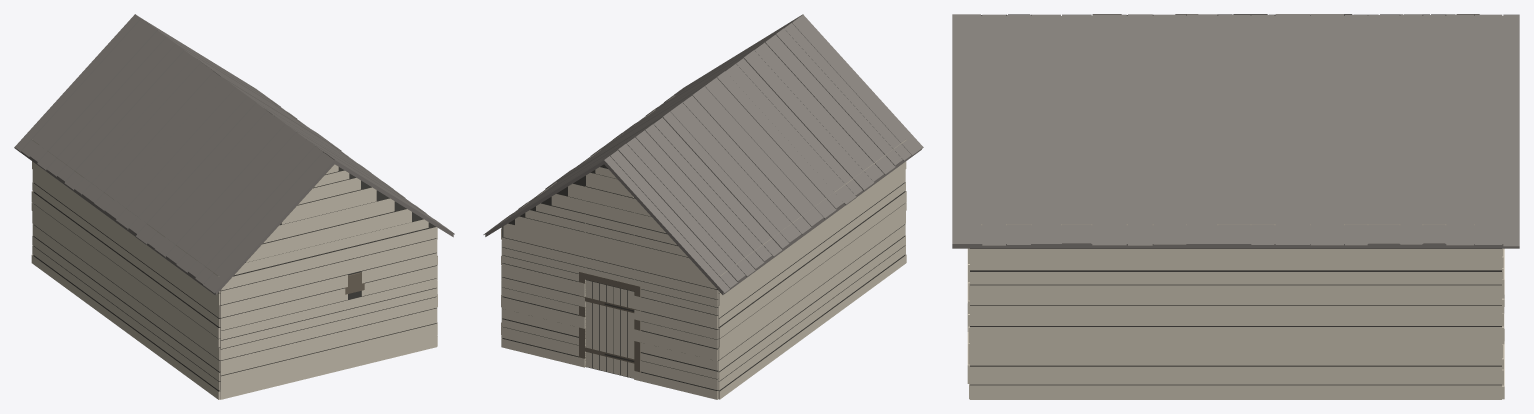
The model's file is recon_1835_blk_west_randolph_des_plaines_w2_01__inferred_1835.glb.
The picture shows the model from 3 angles, left to right: view 1: azimuth 30°, elevation 25°; view 2: azimuth 150°, elevation 25°; view 3: azimuth 270°, elevation 25°; orthographic projection. The views are drawn at different scales.
Visible parts, largest first — view 1: recon_1835_blk_west_randolph_des_plaines_w2_01__inferred_183; view 2: recon_1835_blk_west_randolph_des_plaines_w2_01__inferred_183; view 3: recon_1835_blk_west_randolph_des_plaines_w2_01__inferred_183.
Boxes of the visible parts, x1,y1,x2,y2 form: recon_1835_blk_west_randolph_des_plaines_w2_01__inferred_183: [14, 14, 454, 399]; recon_1835_blk_west_randolph_des_plaines_w2_01__inferred_183: [483, 14, 923, 399]; recon_1835_blk_west_randolph_des_plaines_w2_01__inferred_183: [952, 14, 1519, 399].
Size of the model in its own units: 6.6 by 5.69 by 9.43.
